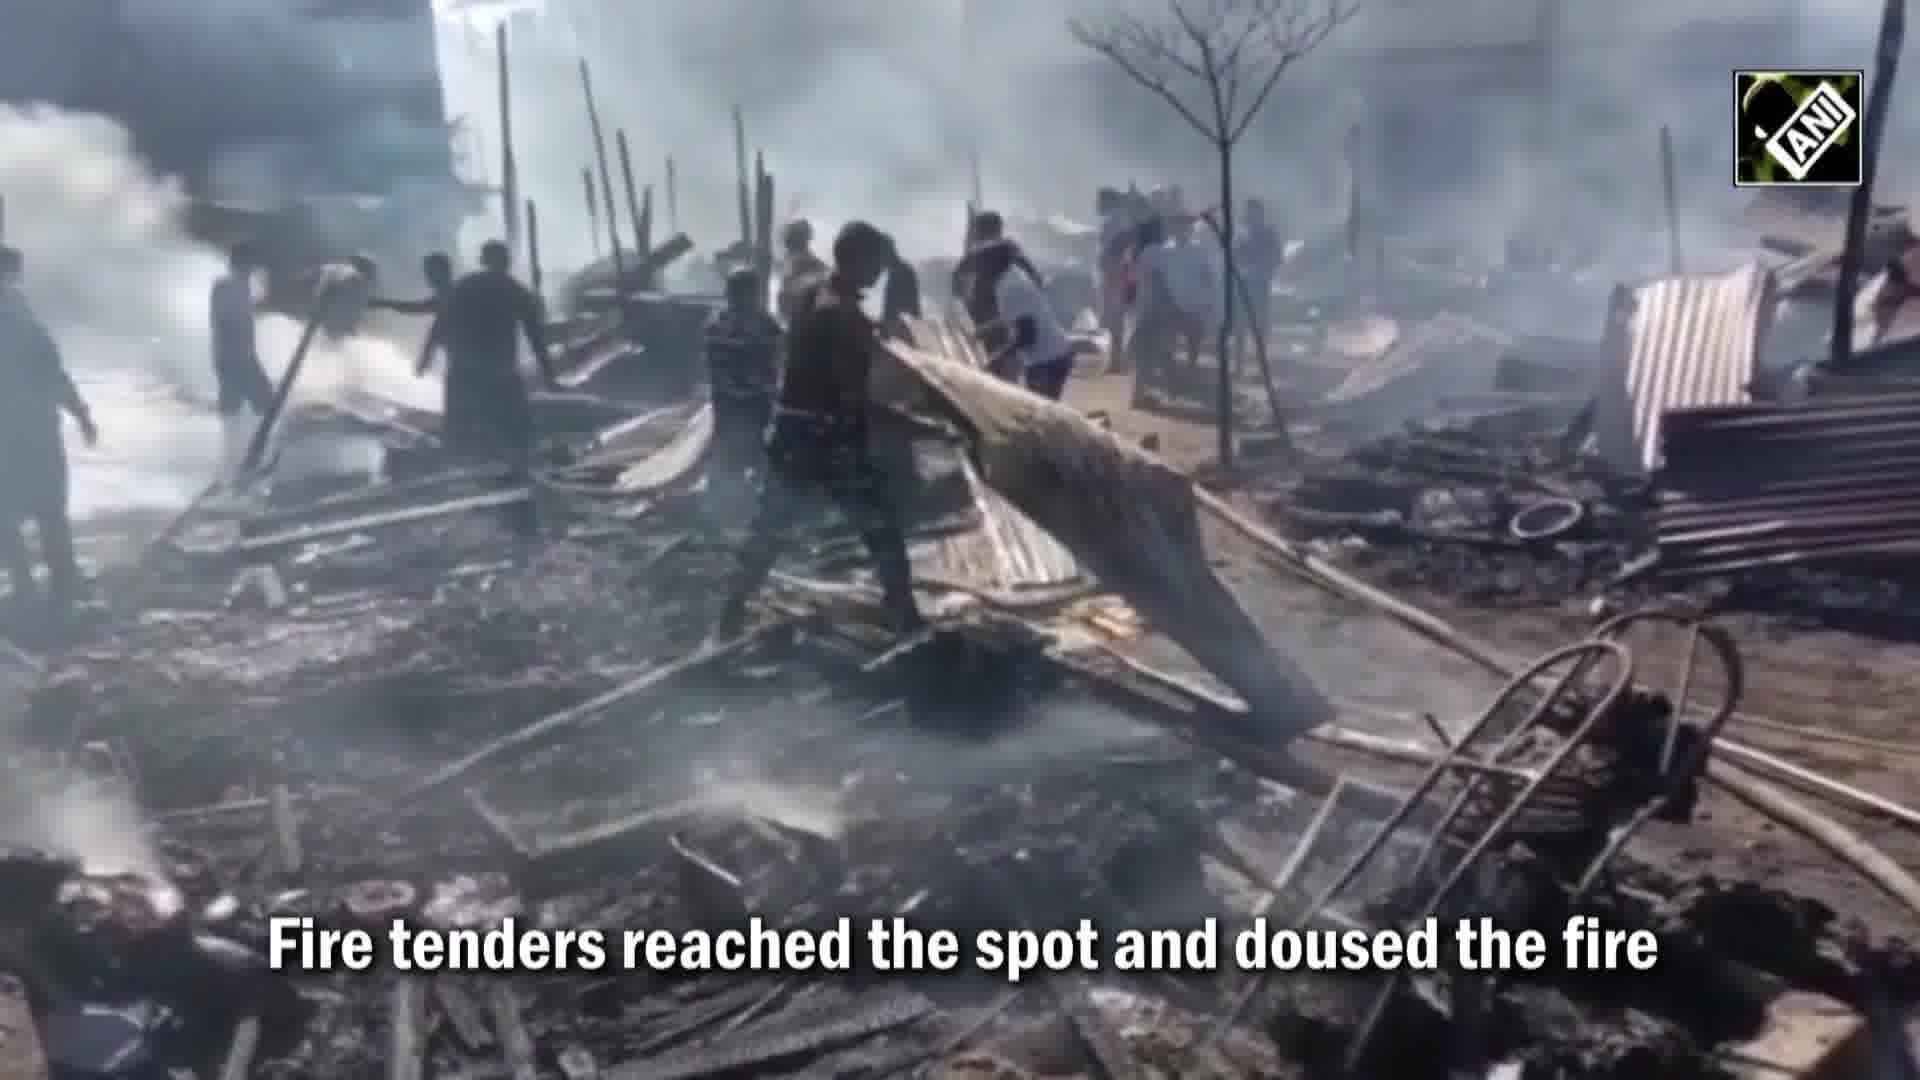smoke: (646, 16, 1073, 236), (1367, 44, 1656, 270), (18, 148, 146, 332)
